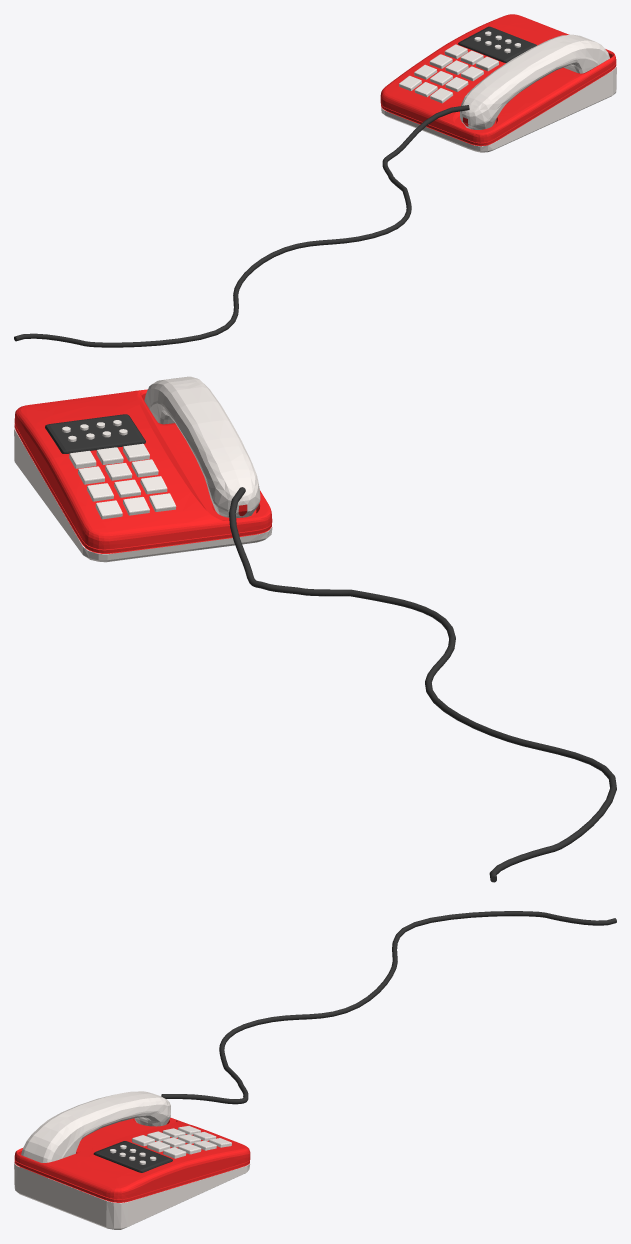
The picture shows the model from 3 angles, top to bottom: view 1: azimuth 90°, elevation 25°; view 2: azimuth 150°, elevation 25°; view 3: azimuth 270°, elevation 25°; orthographic projection. The views are drawn at different scales.
Parts seen in each view (by area): view 1: F6004BOT0, Line002, Box20191; view 2: F6004BOT0, Line002, Box20191; view 3: F6004BOT0, Line002, Box20191.
Part boxes in pixels (x1,y1,x2,y2): F6004BOT0: [380, 14, 616, 152]; Line002: [14, 105, 469, 347]; Box20191: [458, 26, 536, 62]; F6004BOT0: [14, 376, 272, 562]; Line002: [229, 487, 616, 882]; Box20191: [45, 414, 145, 453]; F6004BOT0: [14, 1091, 250, 1229]; Line002: [161, 911, 616, 1104]; Box20191: [93, 1141, 172, 1172].
Size of the model in its own units: 1659 by 166 by 1381.
